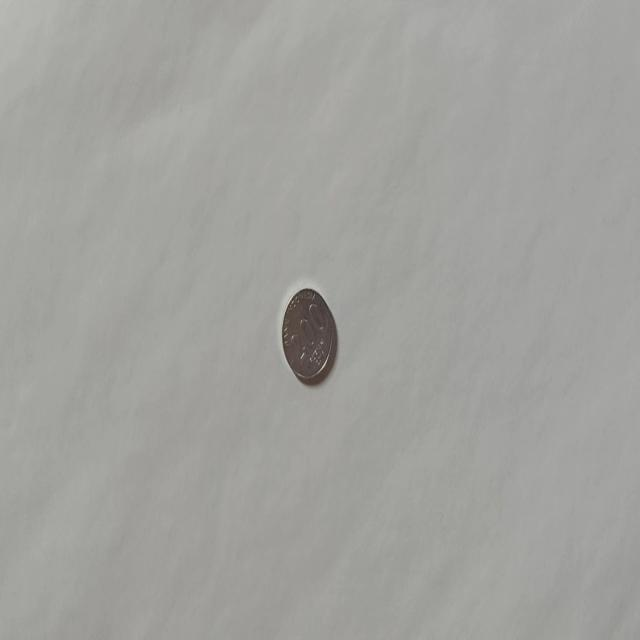dua ratus rupiah: (280, 285, 334, 383)
